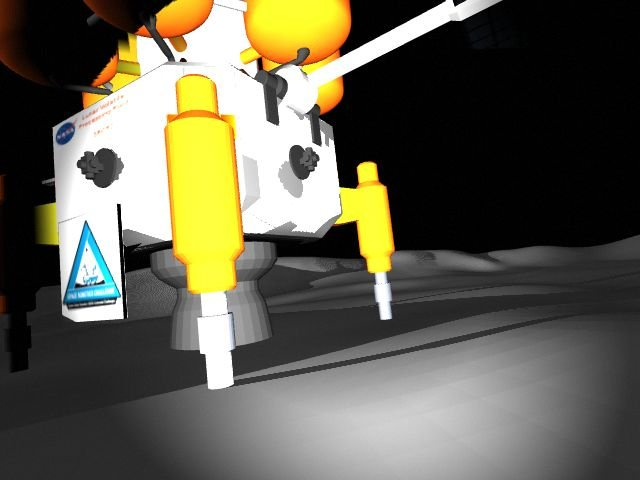basemarker: (62, 219, 124, 311)
